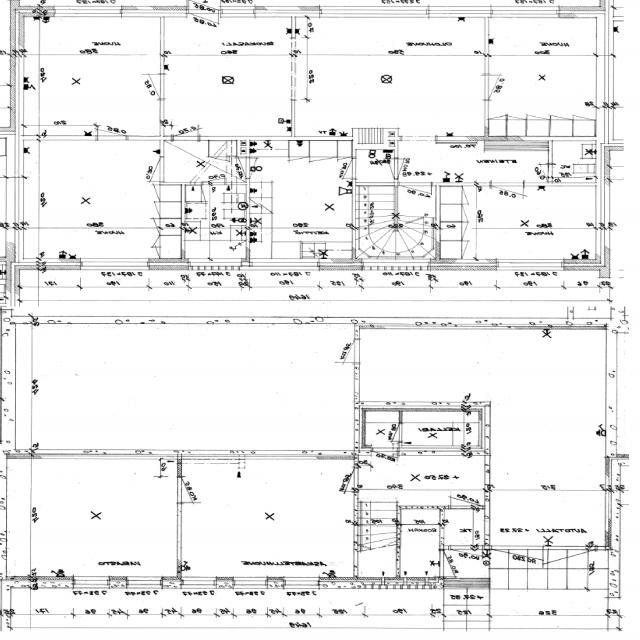door: (492, 545, 542, 590), (542, 545, 592, 590), (189, 7, 220, 42), (451, 545, 483, 576), (491, 182, 524, 212), (178, 477, 214, 503), (399, 182, 432, 210), (484, 74, 520, 99), (451, 480, 482, 508), (324, 468, 359, 492), (372, 445, 399, 475), (132, 156, 165, 180), (99, 113, 128, 140), (326, 339, 359, 362), (440, 553, 473, 574), (133, 75, 165, 96), (220, 157, 250, 178), (246, 157, 276, 178), (369, 158, 399, 178), (394, 158, 424, 178), (173, 116, 198, 140), (189, 0, 220, 18), (328, 158, 356, 177), (525, 163, 552, 181), (204, 164, 227, 185), (379, 424, 403, 439)
